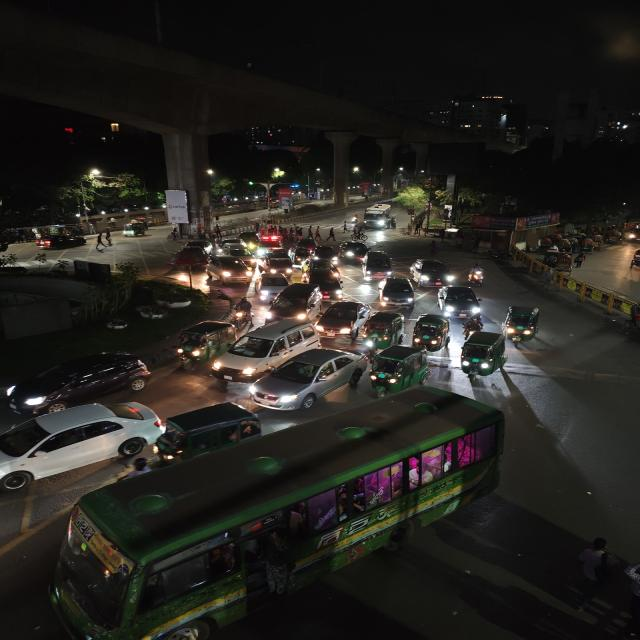bus: (43, 387, 513, 639), (362, 203, 396, 230)
car: (0, 398, 162, 494), (4, 349, 153, 411), (248, 346, 366, 412), (210, 318, 320, 382), (314, 299, 372, 340), (266, 284, 322, 320), (437, 284, 484, 320), (408, 256, 457, 288), (206, 254, 255, 284), (377, 275, 420, 309), (33, 232, 89, 252), (360, 250, 395, 282), (313, 272, 348, 300), (258, 251, 296, 276), (338, 240, 368, 264), (220, 238, 250, 256), (184, 238, 217, 254), (238, 231, 262, 251)
cng: (152, 400, 264, 464), (368, 345, 428, 394), (457, 329, 511, 381), (172, 320, 232, 366), (501, 304, 546, 344), (412, 312, 452, 354), (362, 311, 404, 350), (314, 243, 339, 265), (125, 220, 149, 238), (293, 248, 311, 265)
motorcycle: (229, 296, 257, 324), (466, 263, 489, 287), (460, 314, 483, 336), (350, 226, 365, 242)
pedestrian: (570, 534, 638, 636), (96, 230, 112, 250), (573, 251, 586, 268), (167, 228, 181, 243), (327, 225, 338, 243), (405, 221, 415, 236), (416, 225, 424, 238)
rickshaw: (541, 252, 574, 280), (627, 248, 640, 275)
